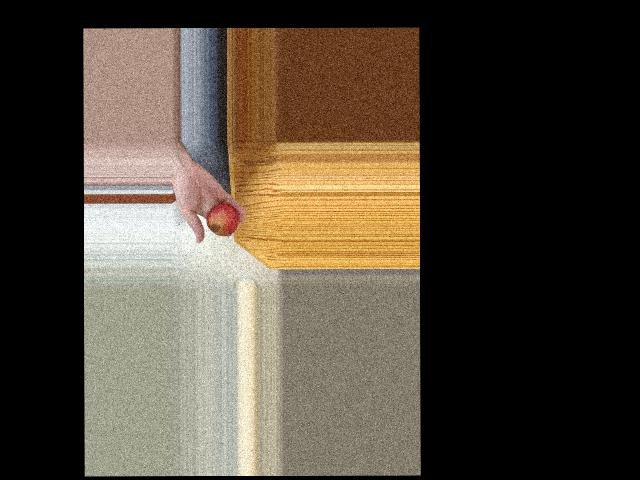apple: (204, 204, 239, 237)
